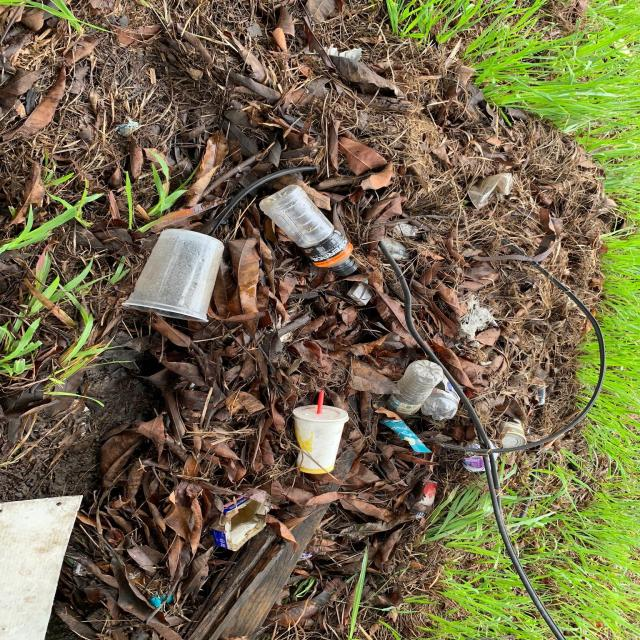litter: (124, 228, 225, 323), (260, 186, 360, 275), (0, 496, 83, 603), (292, 402, 348, 472), (215, 488, 269, 551), (386, 360, 445, 416), (380, 416, 433, 453), (468, 173, 513, 210), (423, 376, 461, 419), (498, 417, 528, 448), (345, 280, 372, 306), (462, 442, 485, 472), (315, 391, 325, 413)
